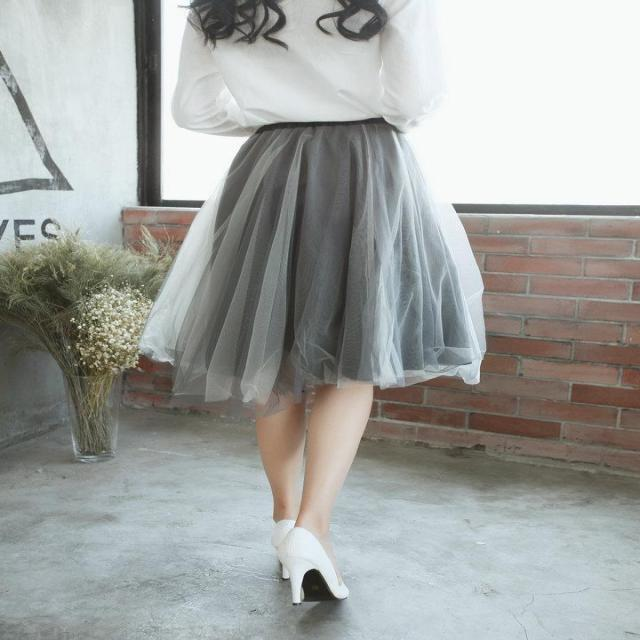long sleeve top: (178, 3, 442, 138)
skirt: (140, 119, 479, 402)
